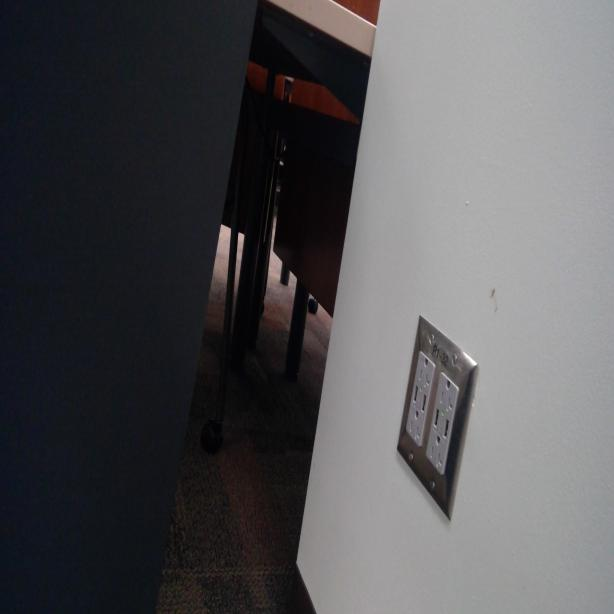typeb: (439, 375, 460, 416), (428, 428, 448, 469), (406, 406, 424, 442), (416, 354, 432, 391)
